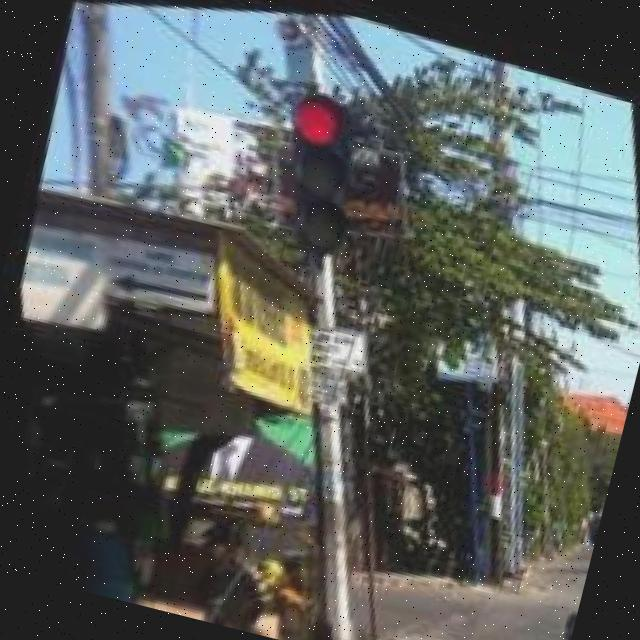red_light: (250, 76, 386, 264)
